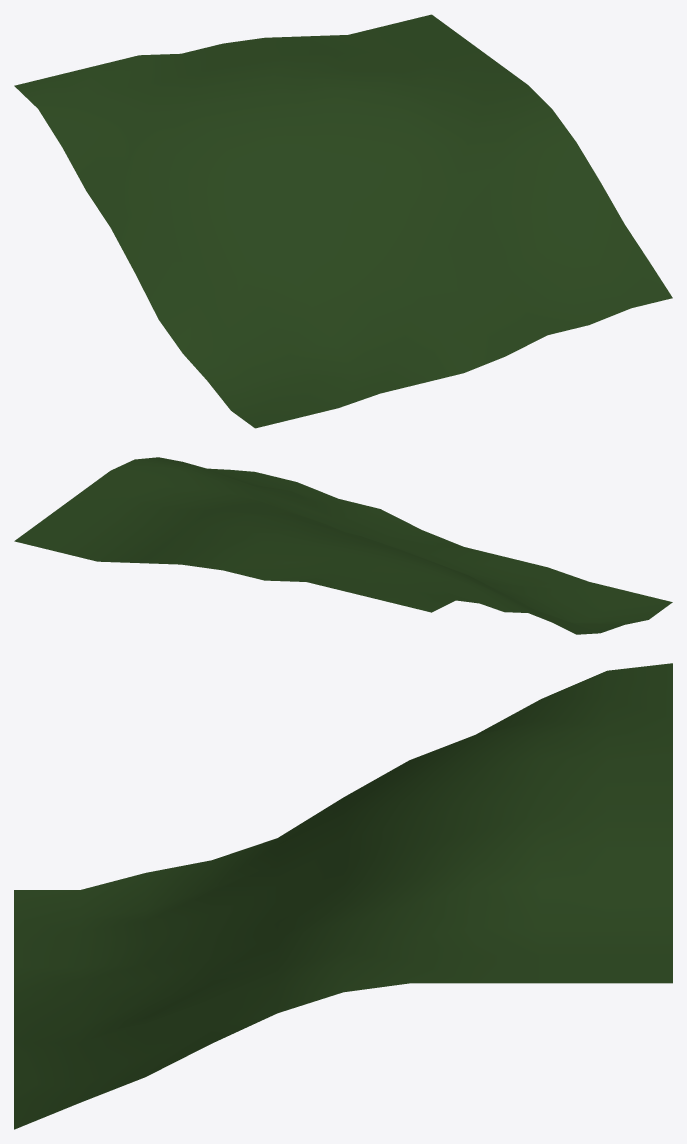
The picture shows the model from 3 angles, top to bottom: view 1: azimuth 30°, elevation 25°; view 2: azimuth 150°, elevation 25°; view 3: azimuth 270°, elevation 25°; orthographic projection. The views are drawn at different scales.
Parts seen in each view (by area): view 1: TerrainModel.073; view 2: TerrainModel.073; view 3: TerrainModel.073.
Boxes of the visible parts, x1,y1,x2,y2 form: TerrainModel.073: (14,14,672,428); TerrainModel.073: (14,457,672,634); TerrainModel.073: (14,663,672,1129).
Size of the model in its own units: 19608 by 7451 by 19608.
